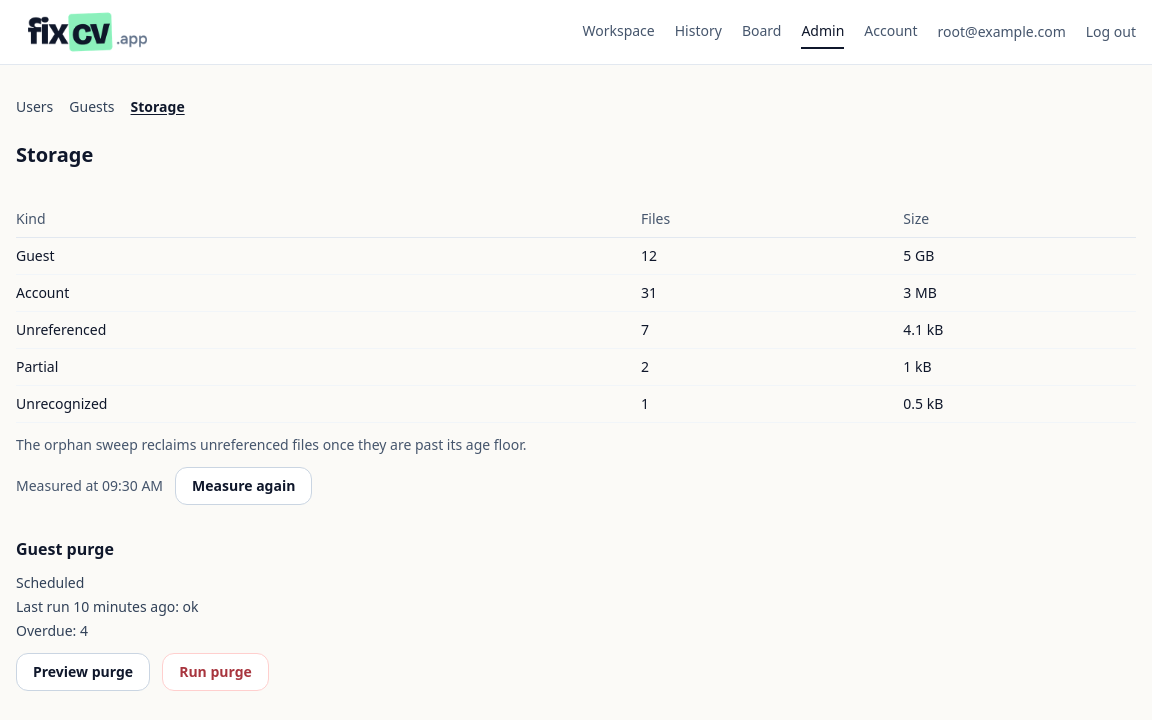
Test: the purge panel — AC-37 › Preview purge reads the preview and says nothing was deleted; no POST
Click the button "Preview purge": (83, 672) [16,653,150,691]
(page scrolled)
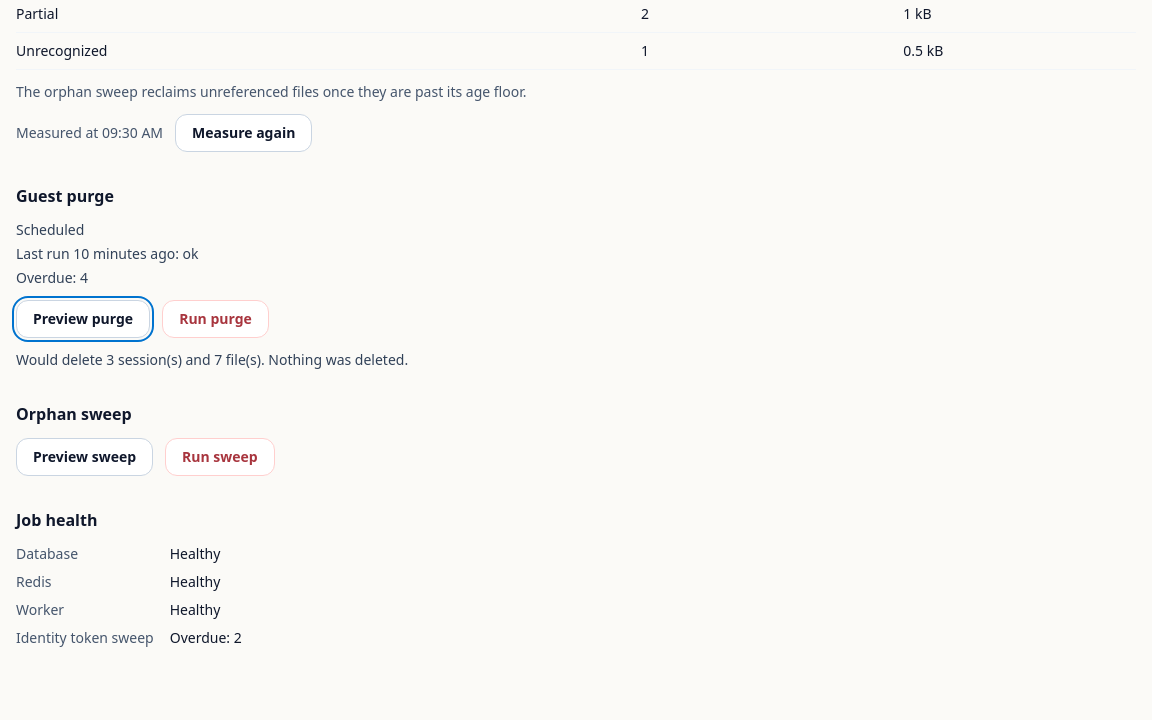
Now the text "Would delete 3 session(s) and 7 file(s). Nothing was deleted." is shown, box [16,350,408,369]
